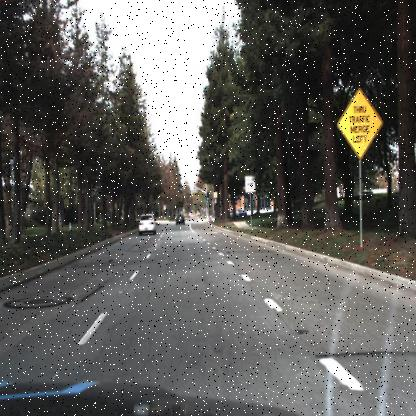car: (136, 211, 158, 237), (174, 211, 186, 228)
